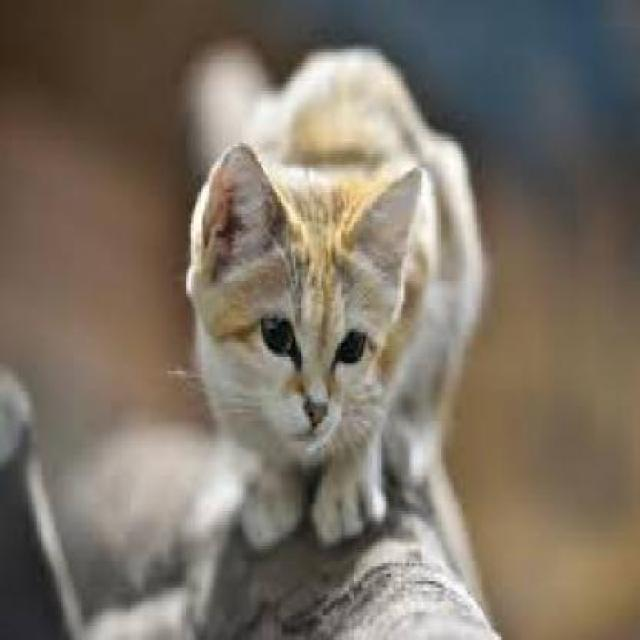cat: (176, 36, 490, 552)
